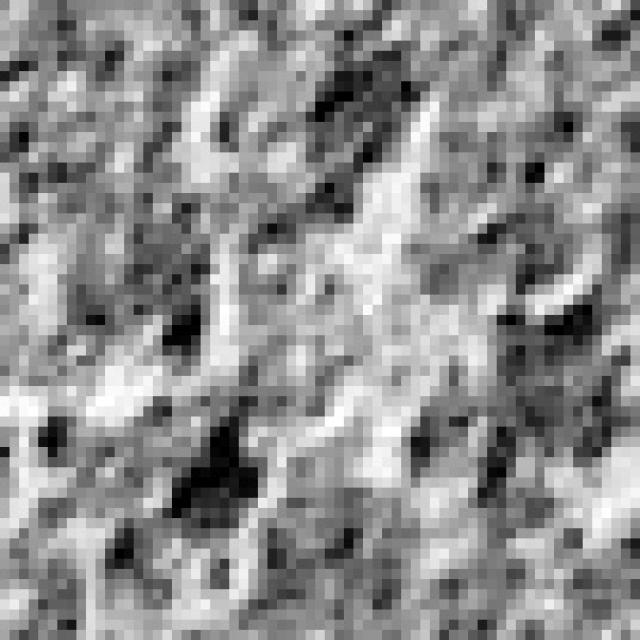inner: (229, 256, 373, 431)
lobe: (0, 27, 217, 363), (16, 392, 278, 602), (206, 25, 431, 247), (404, 288, 639, 492), (398, 105, 605, 302), (226, 456, 426, 638)
outer: (0, 0, 640, 640)
